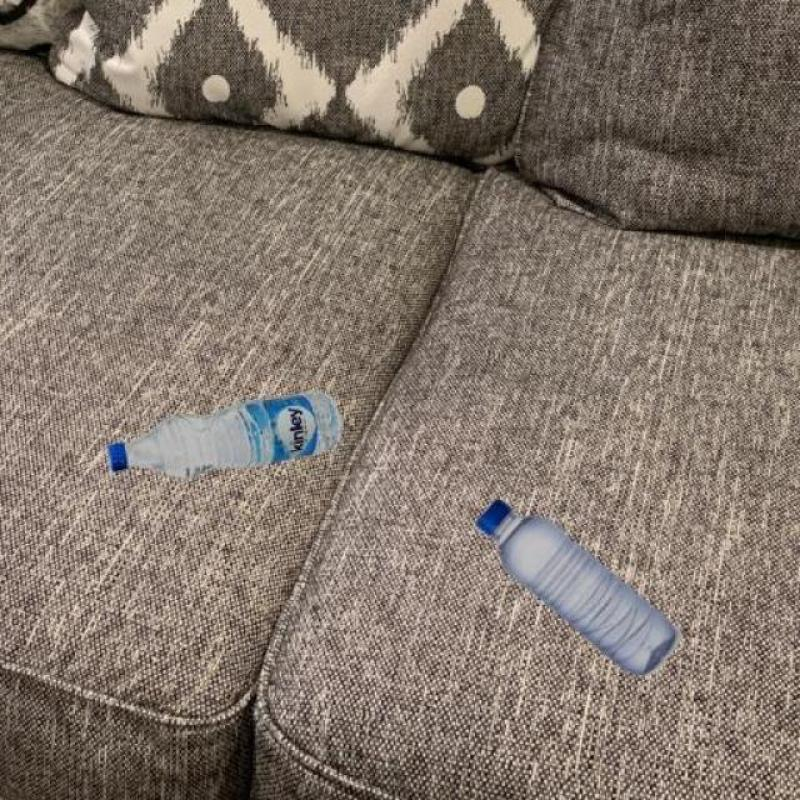botella: (473, 495, 678, 681), (103, 392, 346, 478)
